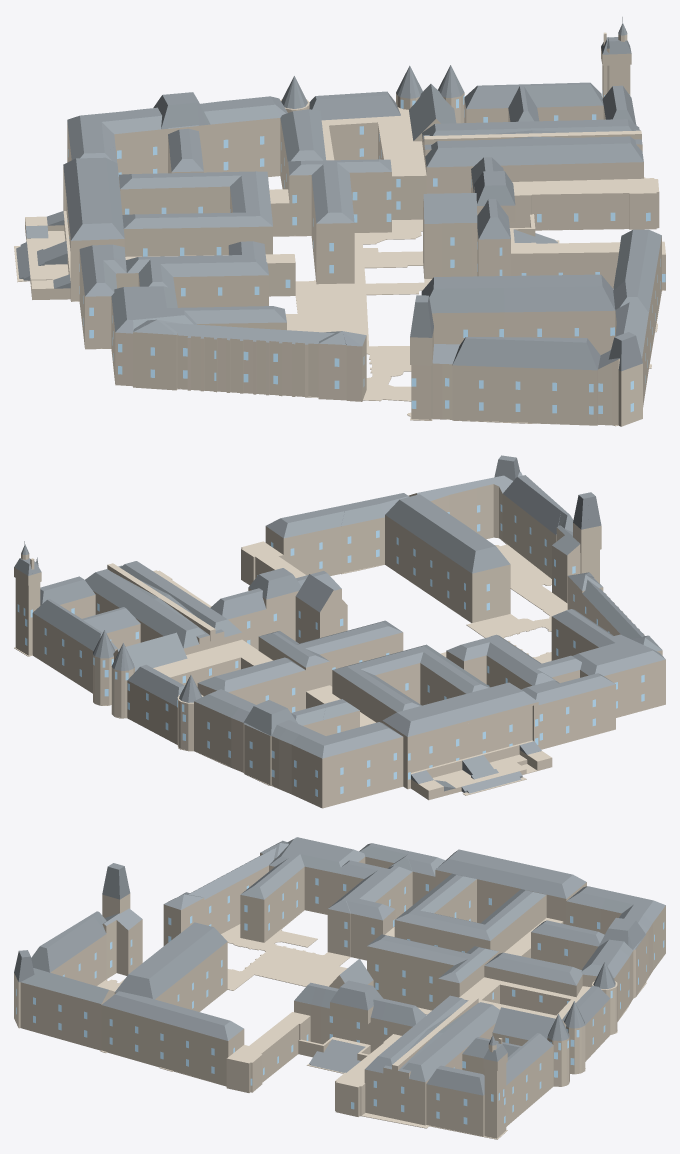
The picture shows the model from 3 angles, top to bottom: view 1: azimuth 30°, elevation 25°; view 2: azimuth 150°, elevation 25°; view 3: azimuth 270°, elevation 25°; orthographic projection. The views are drawn at different scales.
Visible parts, largest first — view 1: stone, roof, window; view 2: stone, roof, window; view 3: stone, roof, window.
Part boxes in pixels (x1,y1,x2,y2): stone: (14, 32, 665, 426); roof: (16, 17, 661, 371); window: (67, 90, 665, 414); stone: (14, 484, 665, 808); roof: (14, 455, 665, 793); window: (17, 504, 644, 796); stone: (14, 853, 665, 1139); roof: (14, 837, 665, 1095); window: (16, 878, 664, 1124).
Size of the model in its own units: 241 by 47 by 257.
